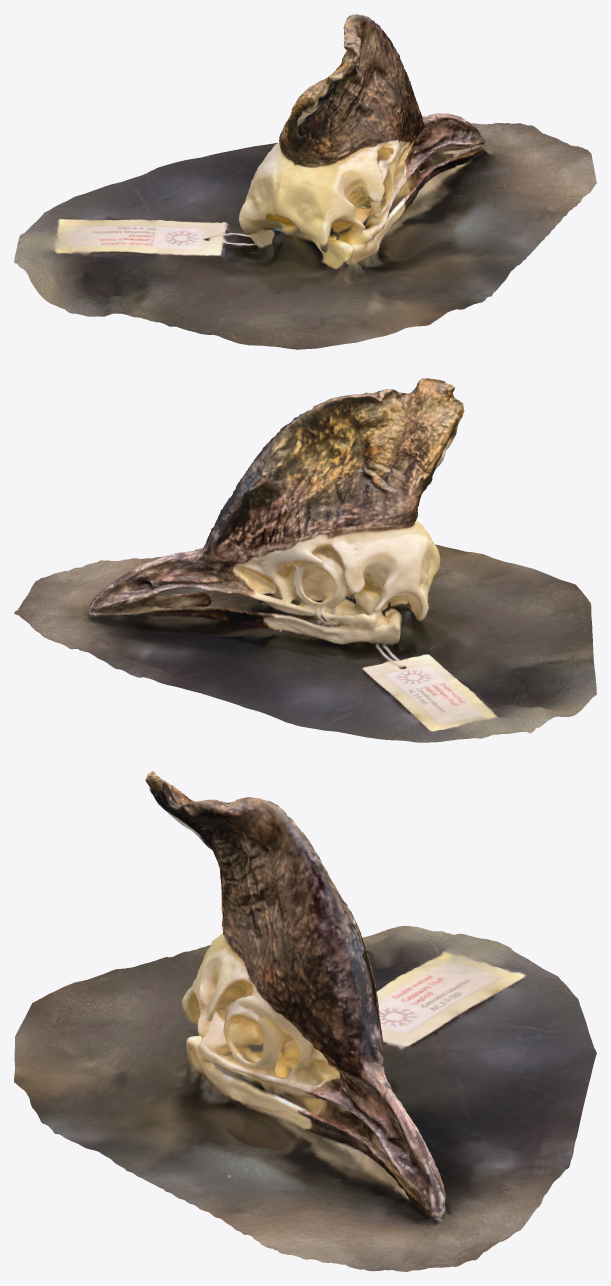
Rendered from southern-cassowary.glb.
The picture shows the model from 3 angles, top to bottom: view 1: azimuth 30°, elevation 25°; view 2: azimuth 150°, elevation 25°; view 3: azimuth 270°, elevation 25°; orthographic projection. The views are drawn at different scales.
Visible parts, largest first — view 1: Object_2; view 2: Object_2; view 3: Object_2.
Part boxes in pixels (x1,y1,x2,y2): Object_2: (14, 14, 596, 349); Object_2: (14, 378, 596, 742); Object_2: (14, 771, 596, 1271).
Bounding box in the file's own units: 0.3292 × 0.1408 × 0.2358.
Materials: 1 (1 with a texture image).
